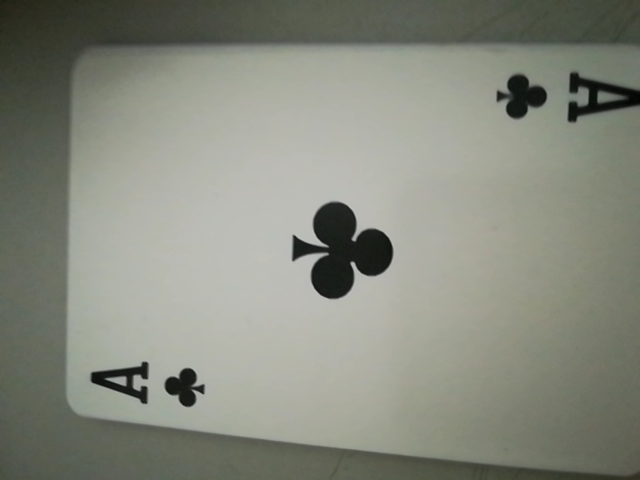mh a: (492, 60, 640, 139), (83, 348, 214, 419)
